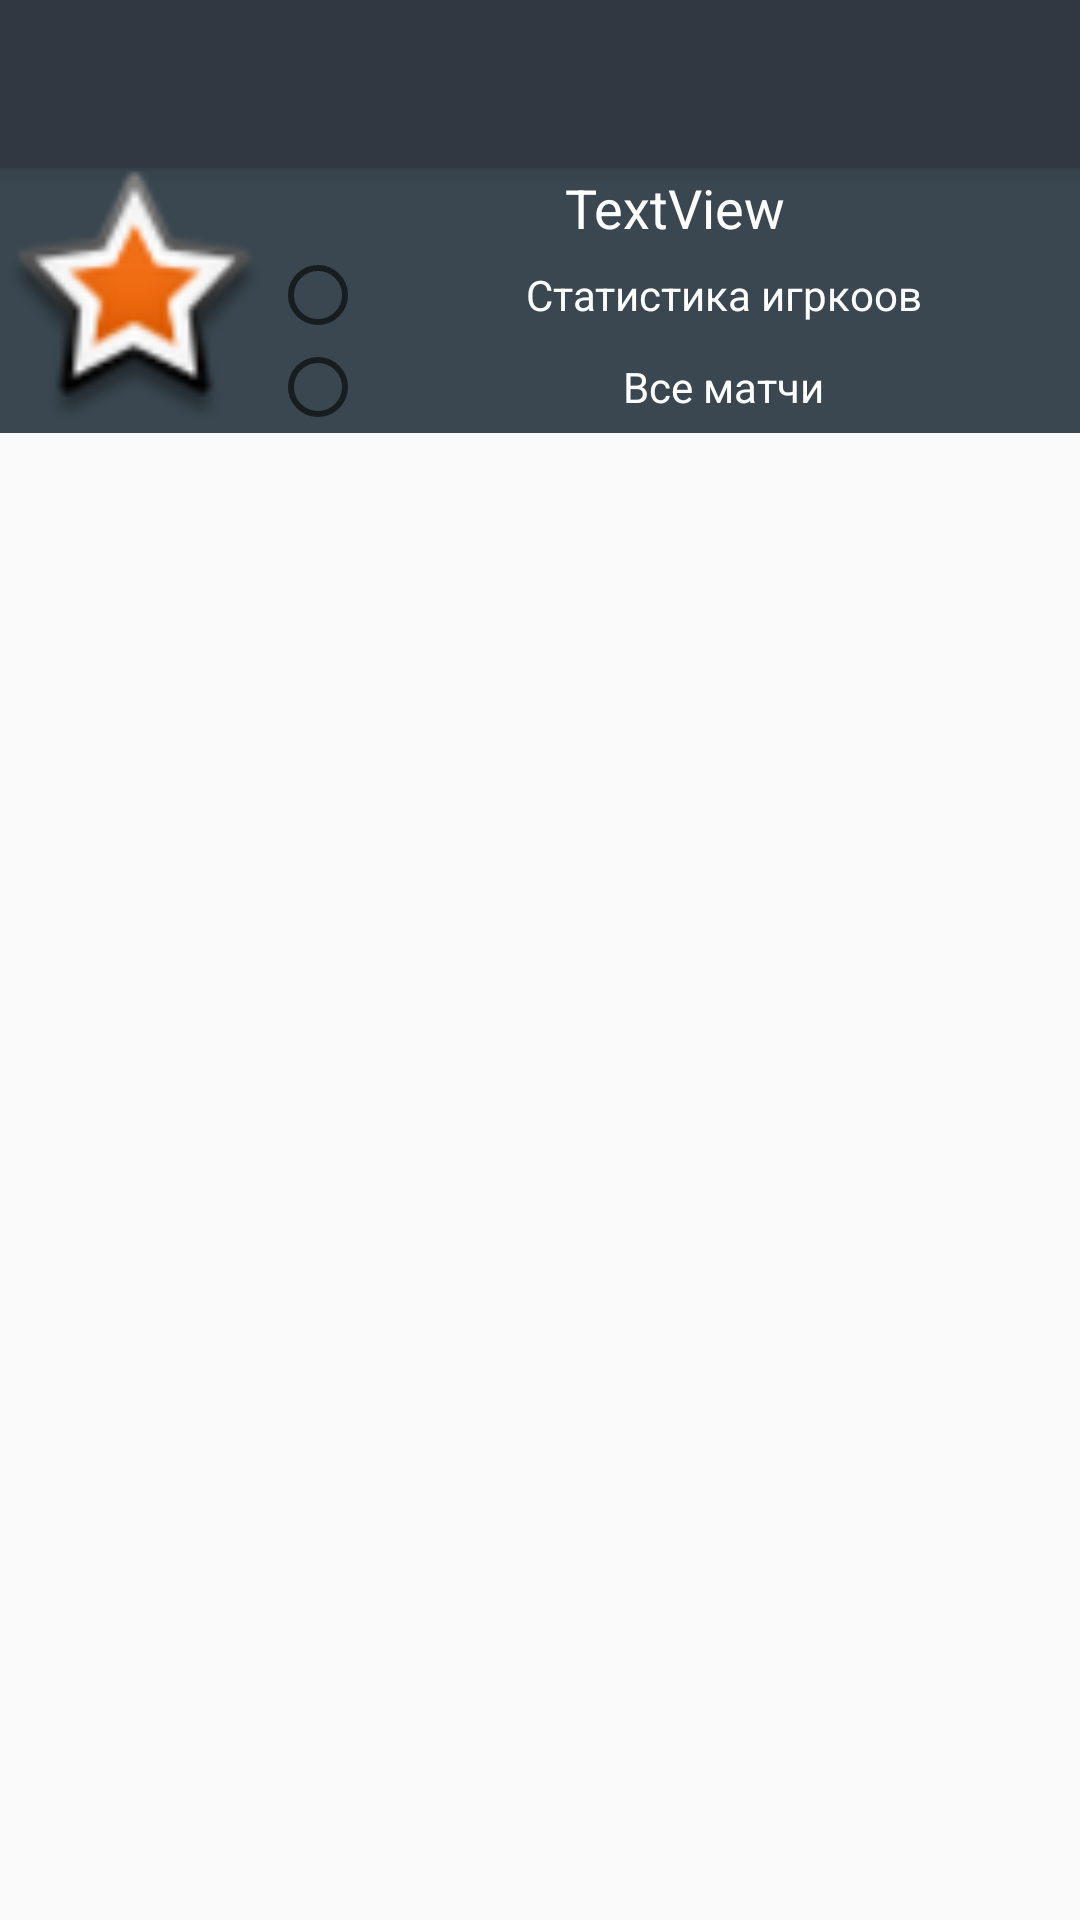

Icon bounding boxes for this 1080×1920 phone screenshot, format (x1, y1, x2, y2):
star on: (23, 173, 244, 399)
